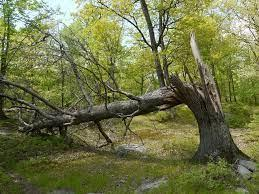Downstairs: (0, 32, 258, 166)
